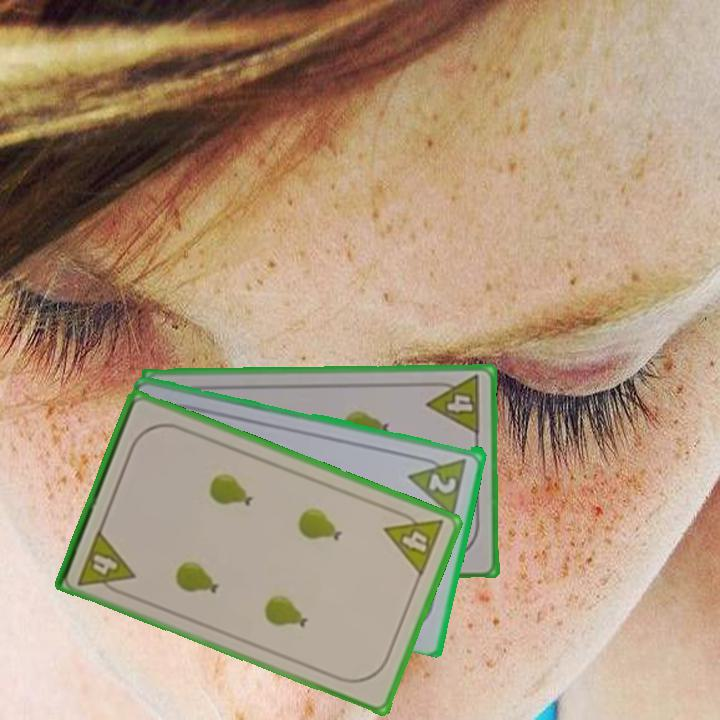2p: (425, 469, 460, 497)
4p: (381, 504, 447, 579), (75, 525, 138, 599), (423, 372, 484, 437)
